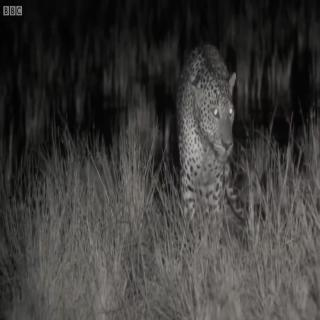Leopard: (171, 47, 264, 265)
